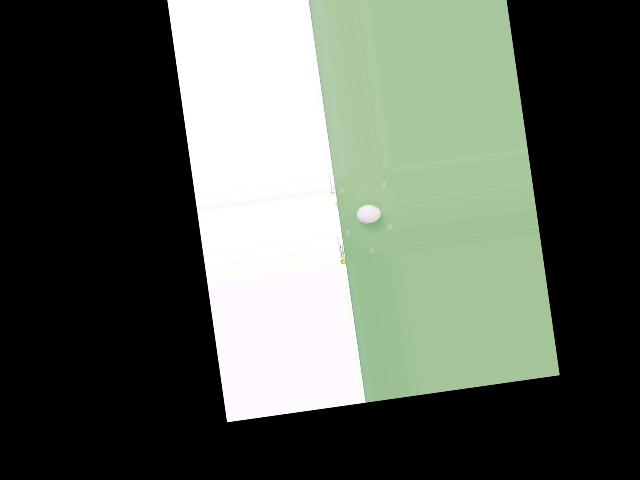egg: (355, 203, 381, 224)
